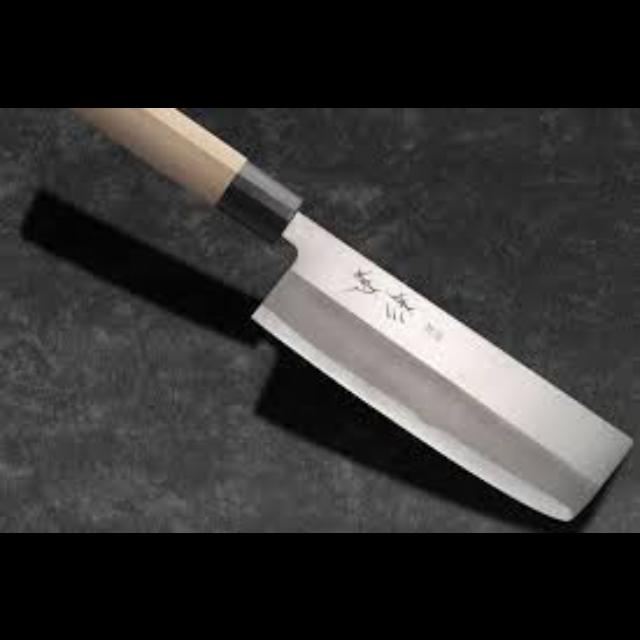knife: (59, 107, 633, 521)
